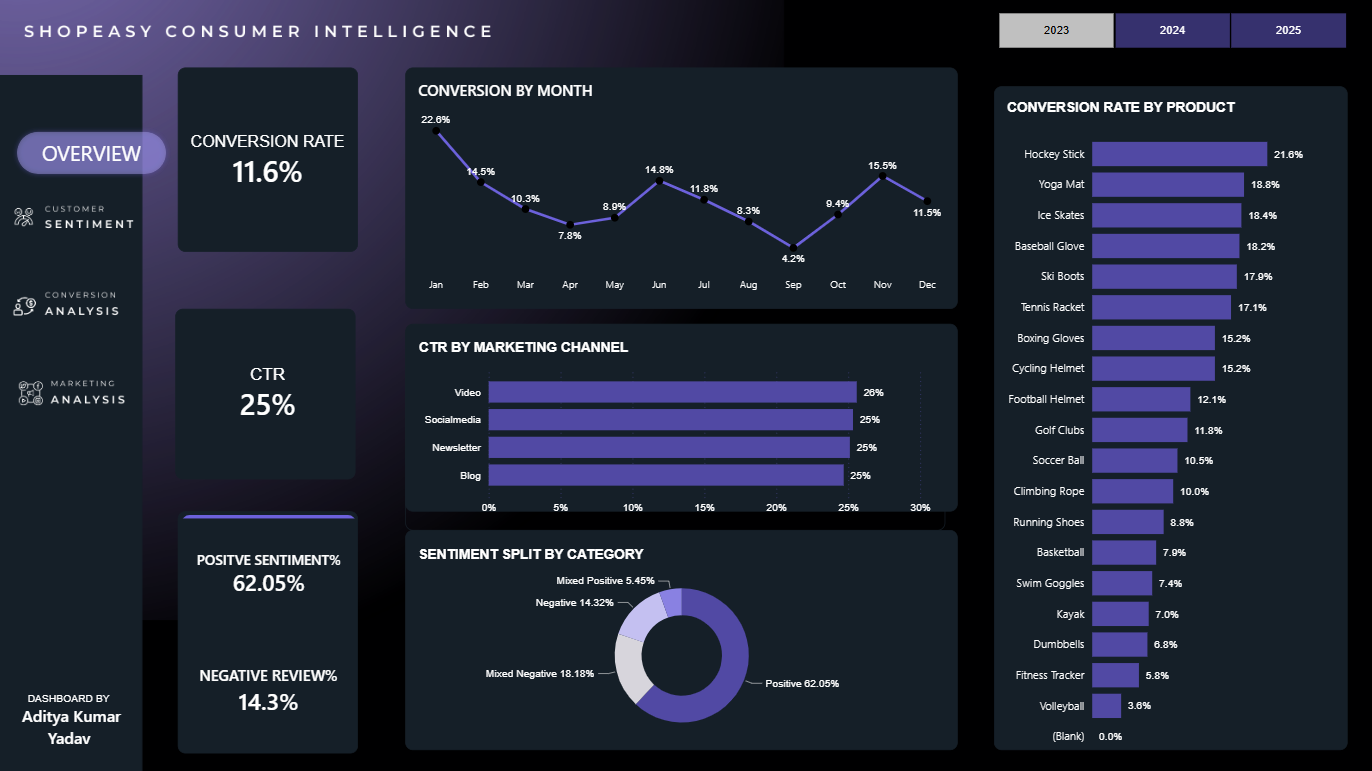

What the dashboard file says about the page in this screenshot:
{"tool":"powerbi","page":{"name":"overview","canvas":[1600,900],"ordinal":0},"visuals":[{"type":"shape","box":[0,159,149.2,49.2],"z":0},{"type":"shape","box":[208.2,78.7,209.8,214.8],"z":1000},{"type":"shape","box":[208.2,595.1,209.8,282],"z":2000},{"type":"shape","box":[1157.4,100,411.5,772.1],"z":3000},{"type":"shape","box":[472.4,78.2,642.6,280.7],"z":4000},{"type":"lineChart","title":"CONVERSION BY MONTH","fields":{"Category":["Calendar.MonthNameShort"],"Y":["calculations.Conversion Rate"]},"box":[472.4,78.2,642.6,280.7],"z":5000},{"type":"clusteredBarChart","title":"CONVERSION RATE BY PRODUCT","fields":{"Y":["calculations.Conversion Rate"],"Category":["products.ProductName"]},"box":[1157.4,100,411.5,800],"z":6000},{"type":"cardVisual","fields":{"Data":["negative_reviews_issues.neagtive review %"]},"box":[208.2,734.4,211.5,137.7],"z":7000},{"type":"shape","box":[472.1,616.4,642.6,255.7],"z":8000},{"type":"donutChart","title":"SENTIMENT SPLIT BY CATEGORY","fields":{"Category":["customer_reviews_sentiment.SentimentCategory"],"Y":["CountNonNull(customer_reviews_sentiment.ReviewID)"]},"box":[472.1,621.3,642.6,255.7],"z":9000},{"type":"cardVisual","fields":{"Data":["calculations.Conversion Rate"]},"box":[211.5,95.1,203.3,186.9],"z":10000},{"type":"cardVisual","fields":{"Data":["calculations.% Positive Sentiment"]},"box":[211.7,598.2,204,136.5],"z":11000},{"type":"shape","box":[204.9,359,209.8,198.4],"z":12000},{"type":"shape","box":[472.1,377,642.6,218],"z":13000},{"type":"clusteredBarChart","title":"CTR BY MARKETING CHANNEL","fields":{"Category":["engagement_data_cleaned.ContentType"],"Y":["calculations.CTR"]},"box":[472.1,378.7,627.9,237.7],"z":14000},{"type":"cardVisual","fields":{"Data":["calculations.CTR"]},"box":[208.2,359,209.8,198.4],"z":15000},{"type":"slicer","fields":{"Values":["Calendar.Date.Variation.Date Hierarchy.Year"]},"box":[1142.6,13.1,442.6,44.3],"z":16000},{"type":"shape","box":[0,131.9,214.7,90.5],"z":17000},{"type":"actionButton","box":[11.5,223,157.4,59],"z":18000},{"type":"actionButton","box":[11.5,329.5,157.4,59],"z":19000},{"type":"actionButton","box":[11.5,421.3,157.4,59],"z":20000},{"type":"pageNavigator","box":[0,208.2,183.6,303.3],"z":21000},{"type":"textbox","box":[0,803.8,168.6,95.9],"z":22000}]}

Visuals, with their boxes in screenshot pixels (x1, y1, x2, y2), scaled from the page's 1600x900 canvas onto the 1372x771 screenshot:
shape: detection(0, 136, 128, 178)
shape: detection(179, 67, 358, 251)
shape: detection(179, 510, 358, 751)
shape: detection(992, 86, 1345, 747)
shape: detection(405, 67, 956, 307)
"CONVERSION BY MONTH" lineChart: detection(405, 67, 956, 307)
"CONVERSION RATE BY PRODUCT" clusteredBarChart: detection(992, 86, 1345, 770)
cardVisual - negative_reviews_issues.neagtive review %: detection(179, 629, 360, 747)
shape: detection(405, 528, 956, 747)
"SENTIMENT SPLIT BY CATEGORY" donutChart: detection(405, 532, 956, 751)
cardVisual - calculations.Conversion Rate: detection(181, 81, 356, 242)
cardVisual - calculations.% Positive Sentiment: detection(182, 512, 356, 629)
shape: detection(176, 308, 356, 478)
shape: detection(405, 323, 956, 510)
"CTR BY MARKETING CHANNEL" clusteredBarChart: detection(405, 324, 943, 528)
cardVisual - calculations.CTR: detection(179, 308, 358, 478)
slicer - Calendar.Date.Variation.Date Hierarchy.Year: detection(980, 11, 1359, 49)
shape: detection(0, 113, 184, 191)
actionButton: detection(10, 191, 145, 242)
actionButton: detection(10, 282, 145, 333)
actionButton: detection(10, 361, 145, 411)
pageNavigator: detection(0, 178, 157, 438)
textbox: detection(0, 689, 145, 770)
